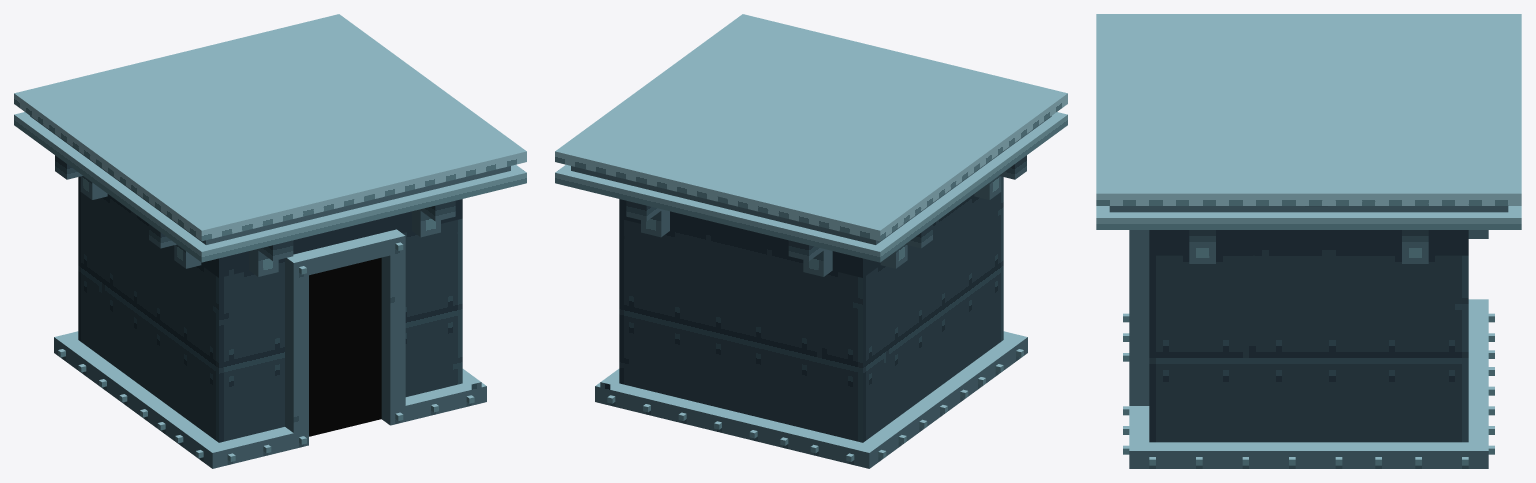
The model's file is lighthouse_coreao.fezao.glb.
3 views of the same model, side by side, from view 1: azimuth 30°, elevation 25°; view 2: azimuth 150°, elevation 25°; view 3: azimuth 270°, elevation 25° (orthographic). The views are drawn at different scales.
Parts seen in each view (by area): view 1: LIGHTHOUSE_COREAO; view 2: LIGHTHOUSE_COREAO; view 3: LIGHTHOUSE_COREAO.
Boxes of the visible parts, x1=… form: LIGHTHOUSE_COREAO: x1=14, y1=14, x2=526, y2=468; LIGHTHOUSE_COREAO: x1=555, y1=14, x2=1067, y2=468; LIGHTHOUSE_COREAO: x1=1096, y1=14, x2=1521, y2=468.
Size of the model in its own units: 4 by 3 by 4.
1 material, 1 textured.
